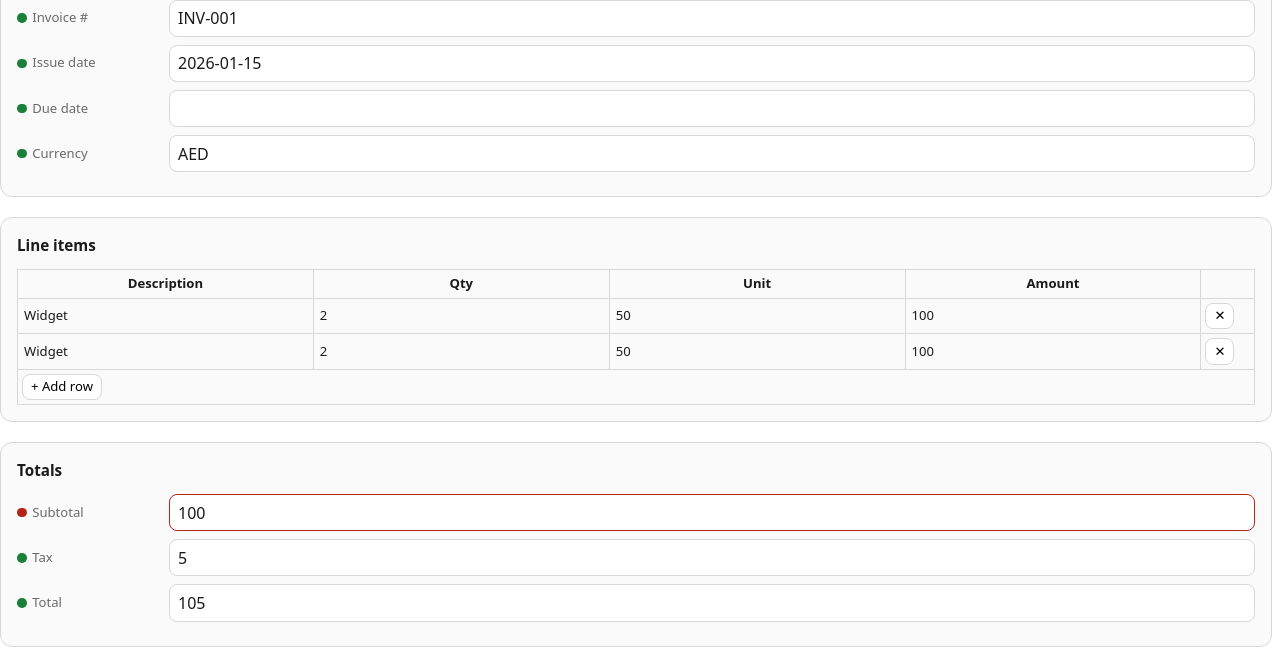
Test: ReviewForm › deletes a line item
(page scrolled)
Check: the number of fields named "line 1 description" is 2, box [22,305,309,327]; [22,341,309,362]
Click the button named "delete line 2" at {"x": 1220, "y": 351}, box [1205,338,1234,365]
(page scrolled)
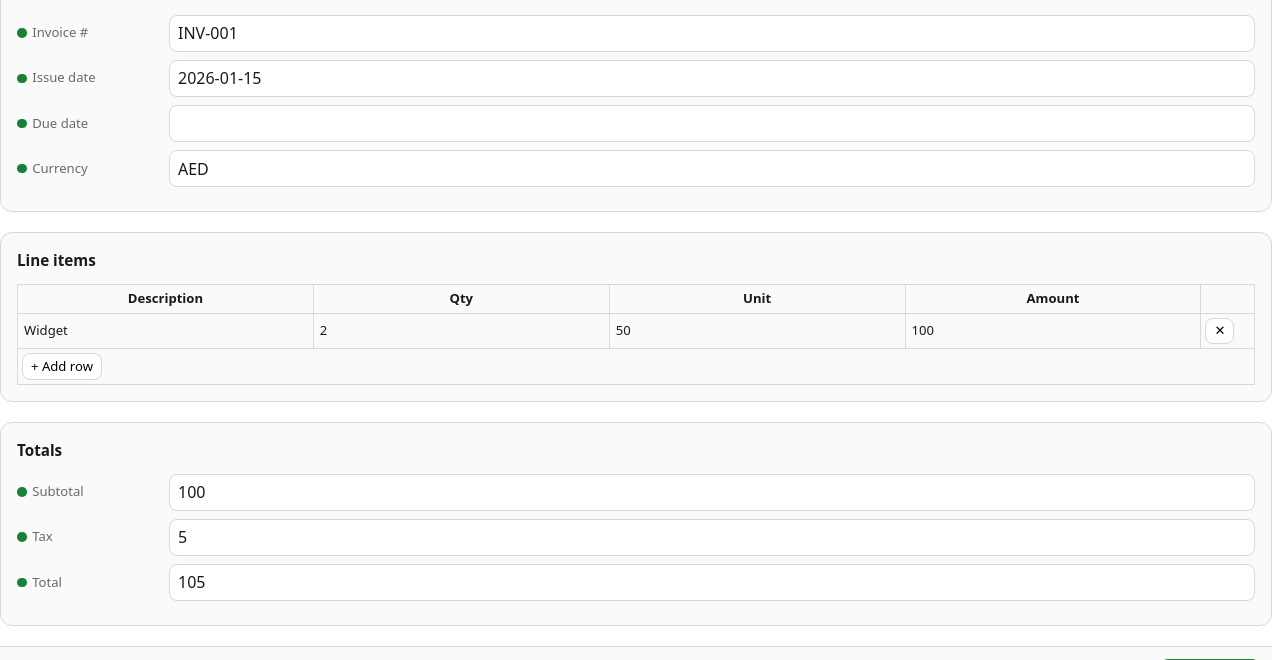
Check: the number of fields named "line 1 description" is 1, box [22,320,309,342]
